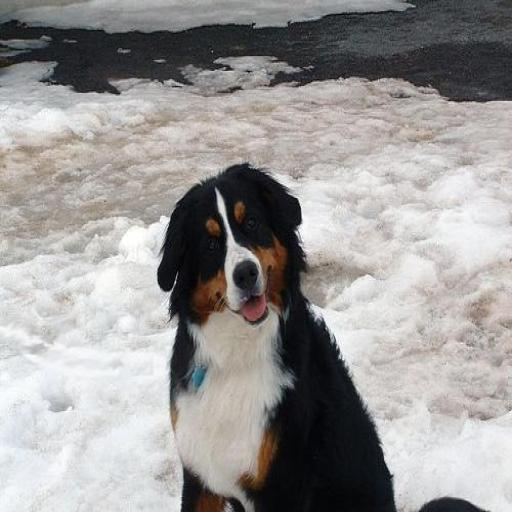dog_face: (162, 169, 304, 328)
